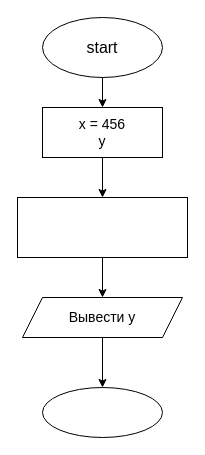
The diagram is 205 pixels wide and 455 high, and some of its shapes have lost their labels. The shapes that lost their labels are listed below. From the top down, each one's centre as x and y in pixels, then its label:
At (102,227): "y = (x % 100) / 10".
At (102,412): "end".
